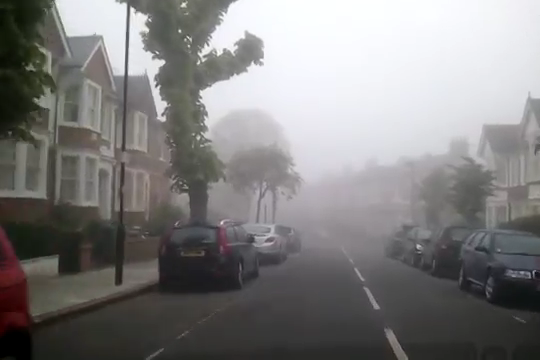car: (157, 217, 263, 289), (455, 225, 540, 309), (425, 221, 491, 282), (234, 220, 288, 264), (404, 223, 449, 271), (381, 224, 422, 261), (269, 222, 303, 256)
